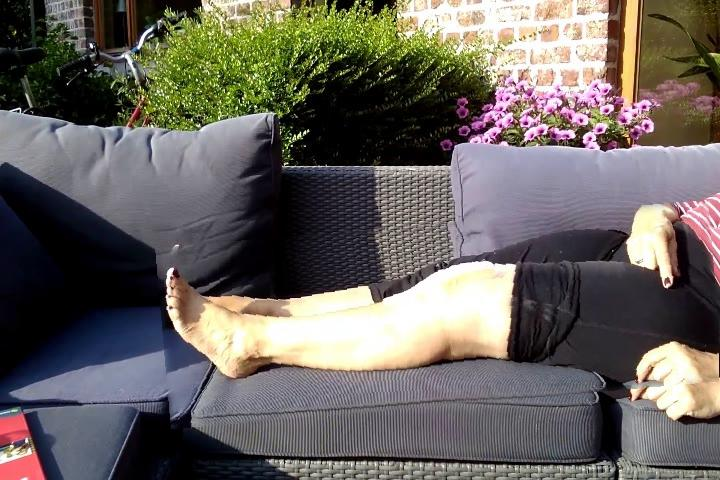lower_body: (159, 213, 720, 419)
